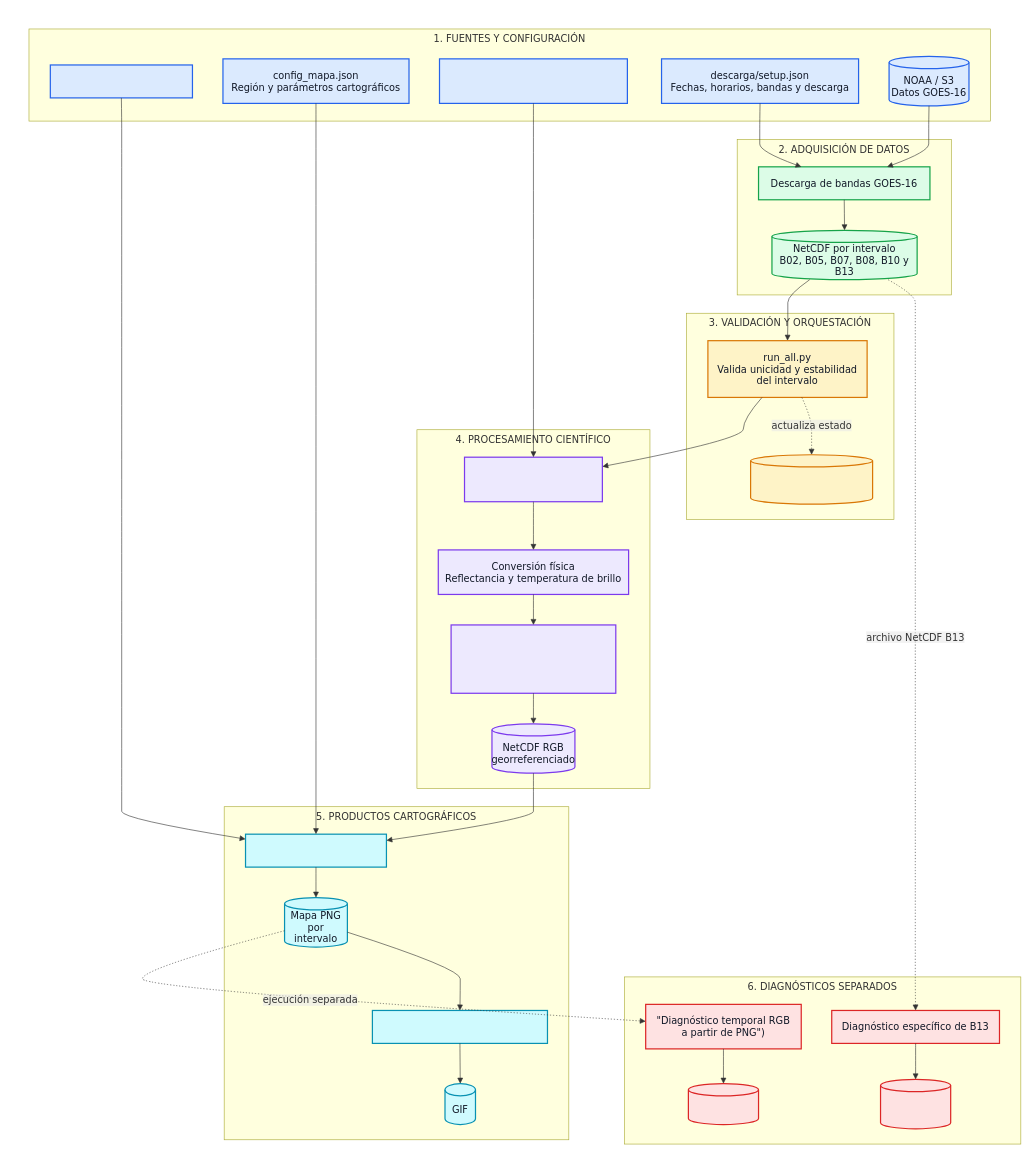
Some shapes in this 1032 by 1155 pixel diagram are drawn without their labels. Here are the shapes that lost their labels. From the top down, the centre of each, then its label:
At (x=121, y=81): "Grillas, logo y shapefiles".
At (x=533, y=81): "config_resampleo.json Remuestreo y procesamiento RGB".
At (x=533, y=479): "Remuestreo de bandas sobre la grilla de B13".
At (x=811, y=479): "pipeline_state.json Estado del procesamiento".
At (x=533, y=659): "Álgebra y normalización RGB R = B08 - B10 G = B07 - B13 B = B05 - B02".
At (x=316, y=850): "Generación cartográfica".
At (x=459, y=1027): "Reconstrucción de la animación".
At (x=723, y=1104): "CSV temporal".
At (x=915, y=1103): "PNG térmicos JSON y CSV".
